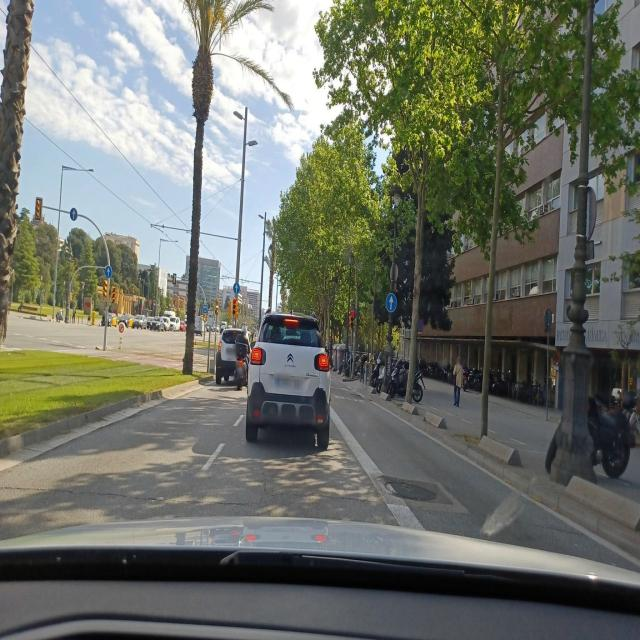bike: (544, 383, 631, 482), (386, 357, 424, 402), (489, 371, 513, 396)
car: (245, 310, 331, 449), (214, 326, 250, 386), (132, 314, 148, 329), (158, 316, 170, 331)
